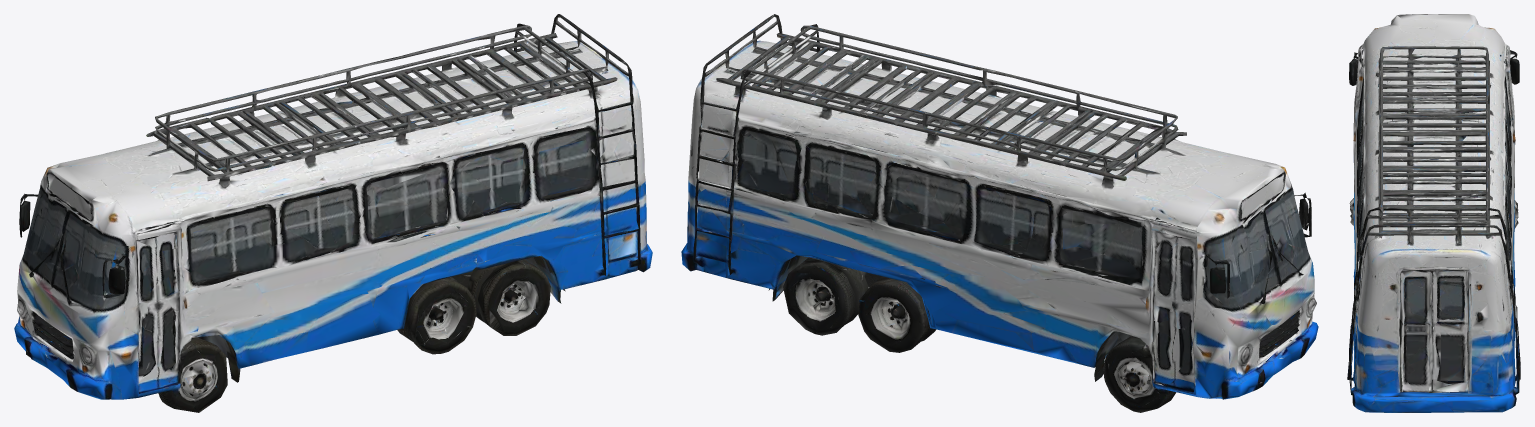
The model's file is bus.glb.
3 renders of one model, left to right at view 1: azimuth 30°, elevation 25°; view 2: azimuth 150°, elevation 25°; view 3: azimuth 270°, elevation 25°, orthographic. The views are drawn at different scales.
Size of the model in its own units: 1.9 by 0.7571 by 0.5653.
1 material, 1 textured.
